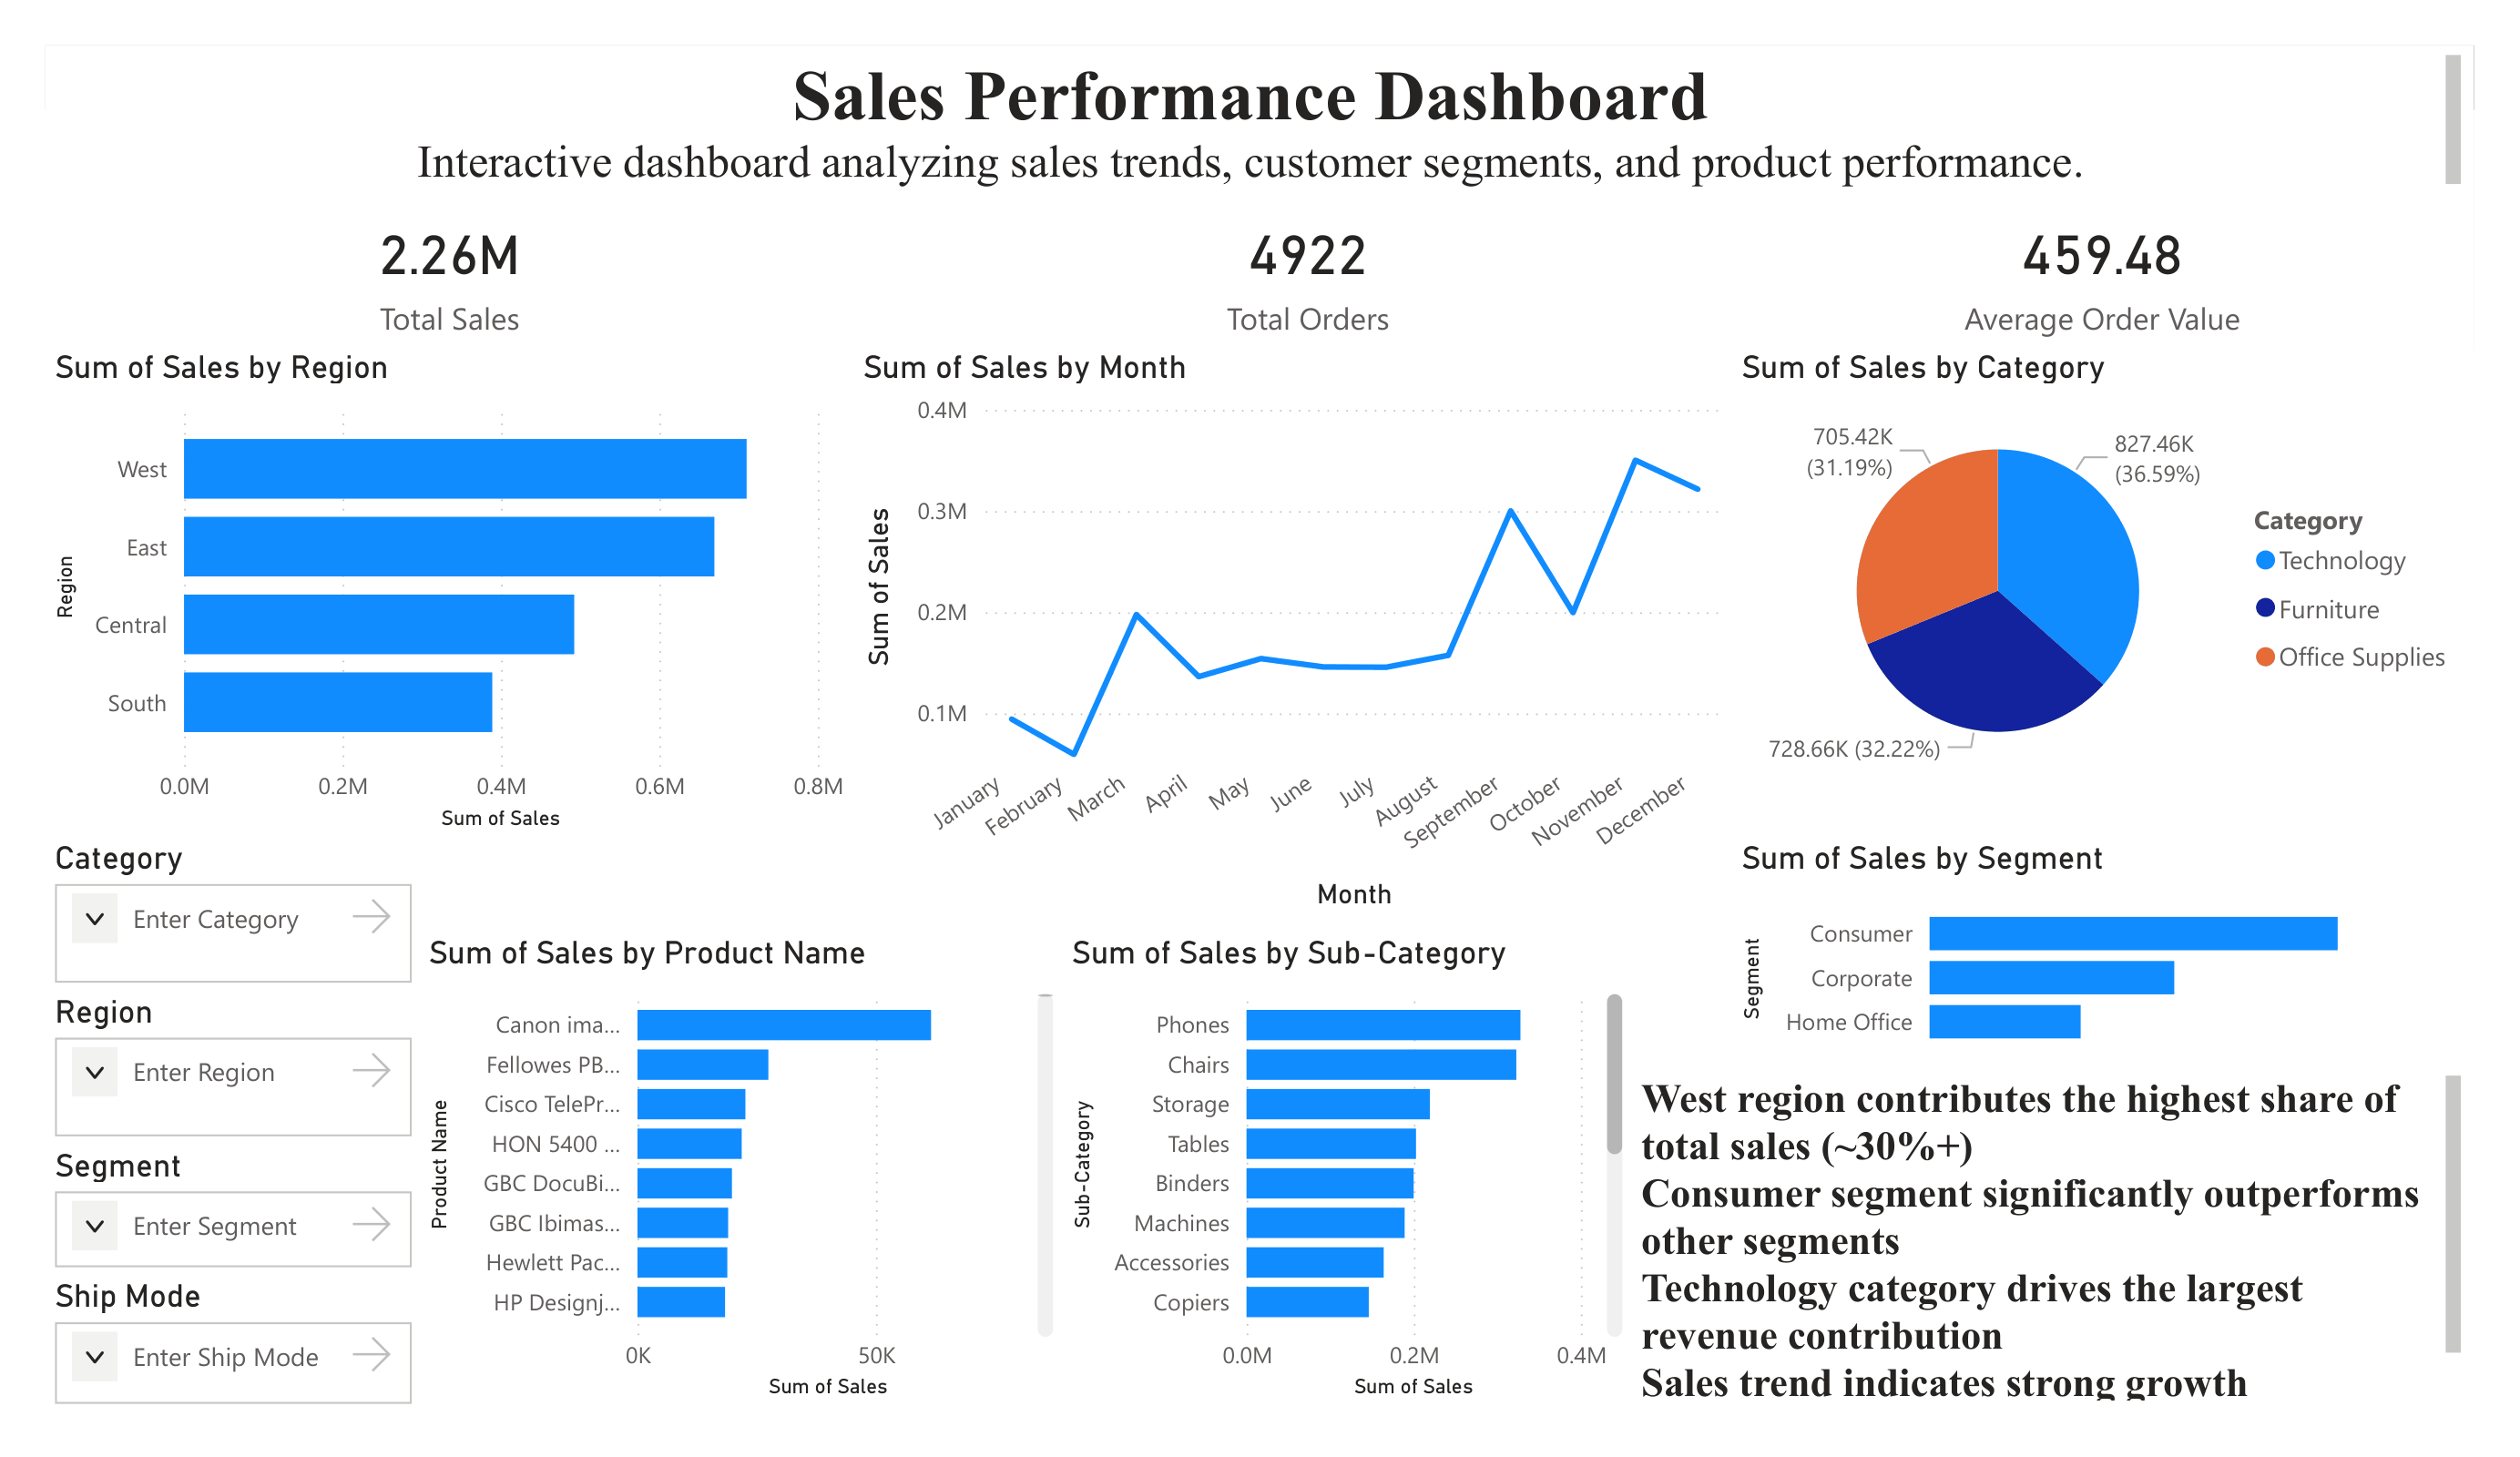

The page's visual inventory and layout, read from the dashboard file:
{"tool":"powerbi","page":{"name":"Page 1","canvas":[1280,720],"ordinal":0},"visuals":[{"type":"card","fields":{"Values":["sheet.Total Sales"]},"box":[0,79.3,425.9,79.3],"z":0},{"type":"card","fields":{"Values":["sheet.Total Orders"]},"box":[425.9,79.3,479.3,79.3],"z":1000},{"type":"card","fields":{"Values":["sheet.Average Order Value"]},"box":[889,79.3,390.2,79.3],"z":2000},{"type":"barChart","fields":{"Category":["sheet.Region"],"Y":["Sum(sheet.Sales)"]},"box":[0,158.7,425.9,259.1],"z":3000},{"type":"pieChart","fields":{"Category":["sheet.Category"],"Y":["Sum(sheet.Sales)"]},"box":[889,158.7,390.2,238],"z":4000},{"type":"lineChart","fields":{"Y":["Sum(sheet.Sales)"],"Category":["sheet.Order Date.Variation.Date Hierarchy.Month"]},"box":[425.9,158.7,463.1,301.2],"z":5000},{"type":"barChart","fields":{"Category":["sheet.Segment"],"Y":["Sum(sheet.Sales)"]},"box":[889,417.8,390.2,121.4],"z":6000},{"type":"barChart","fields":{"Category":["sheet.Product Name"],"Y":["Sum(sheet.Sales)"]},"box":[196.7,468.4,339,251],"z":7000},{"type":"textSlicer","fields":{"Values":["sheet.Region"]},"box":[0,498.7,197.5,81],"z":8000},{"type":"textSlicer","fields":{"Values":["sheet.Category"]},"box":[0,417.8,197.5,81],"z":9000},{"type":"textSlicer","fields":{"Values":["sheet.Segment"]},"box":[0,579.7,197.5,69.6],"z":10000},{"type":"textSlicer","fields":{"Values":["sheet.Ship Mode"]},"box":[0,649.3,197.5,71.2],"z":11000},{"type":"textbox","box":[835.8,538.2,442.5,181.1],"z":11001},{"type":"barChart","fields":{"Category":["sheet.Sub-Category"],"Y":["Sum(sheet.Sales)"]},"box":[535.6,468.4,300.2,251],"z":11002},{"type":"textbox","box":[0,0,1277.6,79.3],"z":11003}]}

Visuals, with their boxes on the page's 1280x720 design canvas (x1, y1, x2, y2). These are canvas units, not pixel positions in the 2520x1457 screenshot, which may show the page scaled, cropped or inside an application window:
card - sheet.Total Sales: <bbox>0, 79, 426, 159</bbox>
card - sheet.Total Orders: <bbox>426, 79, 905, 159</bbox>
card - sheet.Average Order Value: <bbox>889, 79, 1279, 159</bbox>
barChart - sheet.Region x Sum(sheet.Sales): <bbox>0, 159, 426, 418</bbox>
pieChart - sheet.Category x Sum(sheet.Sales): <bbox>889, 159, 1279, 397</bbox>
lineChart - Sum(sheet.Sales) x sheet.Order Date.Variation.Date Hierarchy.Month: <bbox>426, 159, 889, 460</bbox>
barChart - sheet.Segment x Sum(sheet.Sales): <bbox>889, 418, 1279, 539</bbox>
barChart - sheet.Product Name x Sum(sheet.Sales): <bbox>197, 468, 536, 719</bbox>
textSlicer - sheet.Region: <bbox>0, 499, 198, 580</bbox>
textSlicer - sheet.Category: <bbox>0, 418, 198, 499</bbox>
textSlicer - sheet.Segment: <bbox>0, 580, 198, 649</bbox>
textSlicer - sheet.Ship Mode: <bbox>0, 649, 198, 720</bbox>
textbox: <bbox>836, 538, 1278, 719</bbox>
barChart - sheet.Sub-Category x Sum(sheet.Sales): <bbox>536, 468, 836, 719</bbox>
textbox: <bbox>0, 0, 1278, 79</bbox>
